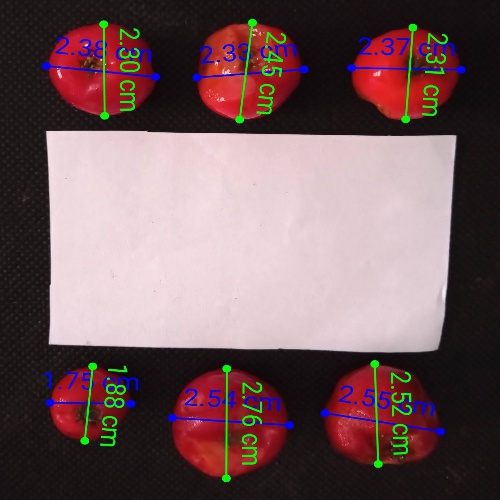acerola: (172, 370, 288, 477), (324, 365, 442, 466), (352, 28, 460, 120), (197, 23, 301, 118), (49, 24, 154, 117), (50, 368, 130, 440)
cartao: (48, 133, 439, 352)
